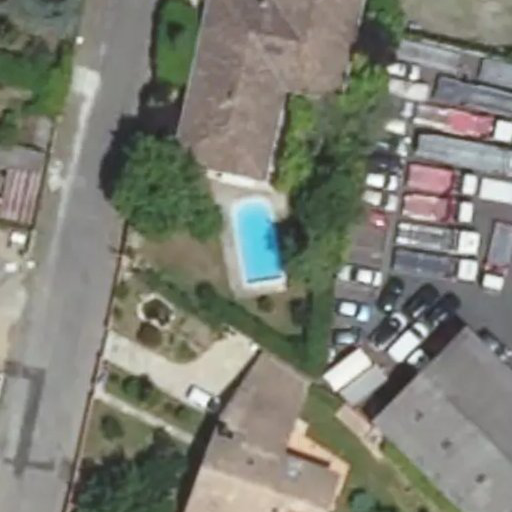pool: (236, 202, 275, 281)
